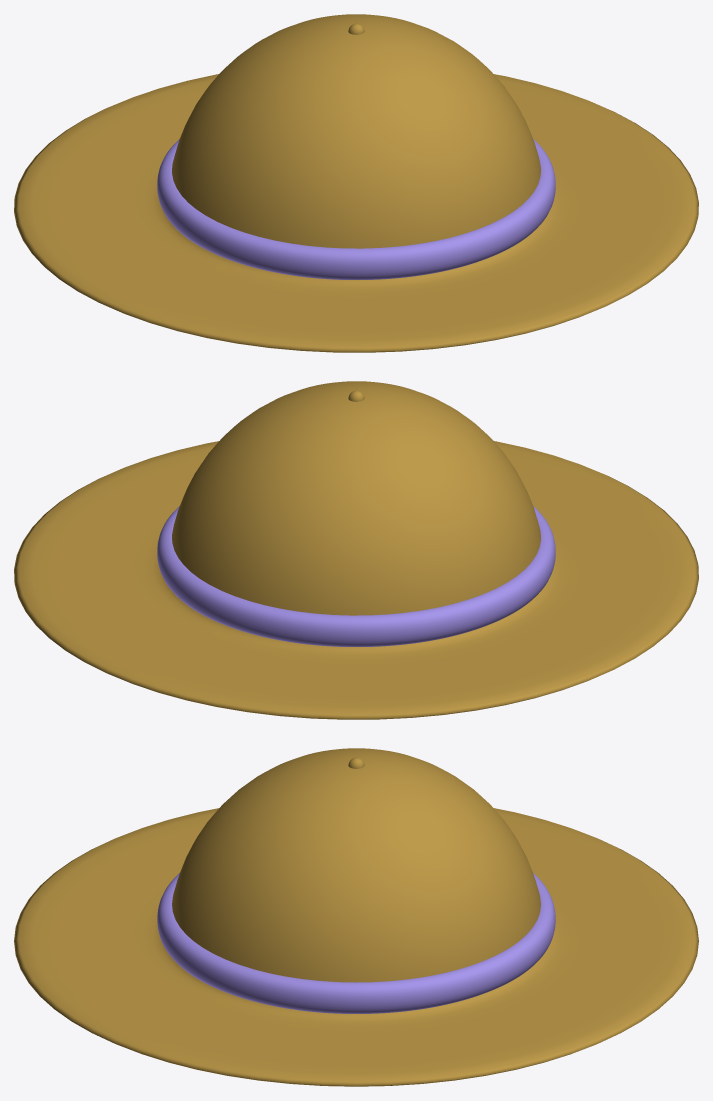
Rendered from chapéu.fbx.
The picture shows the model from 3 angles, top to bottom: view 1: azimuth 30°, elevation 25°; view 2: azimuth 150°, elevation 25°; view 3: azimuth 270°, elevation 25°; orthographic projection.
Visible parts, largest first — view 1: Sphere, Torus; view 2: Sphere, Torus; view 3: Sphere, Torus.
Boxes of the visible parts, x1,y1,x2,y2 form: Sphere: [14, 14, 698, 352]; Torus: [157, 139, 555, 279]; Sphere: [14, 381, 698, 719]; Torus: [157, 506, 555, 646]; Sphere: [14, 748, 698, 1086]; Torus: [157, 873, 555, 1013].
Size of the model in its own units: 69.56 by 20.96 by 69.56.
